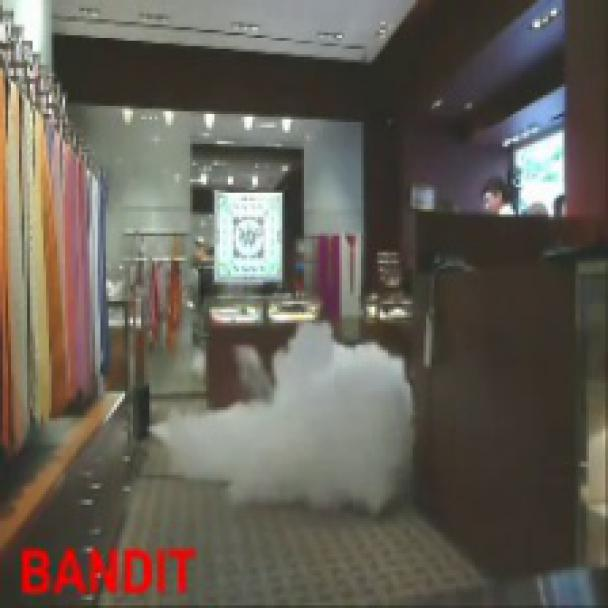smoke: (153, 323, 479, 555)
